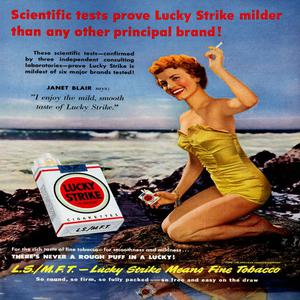cigarette: (210, 40, 223, 55)
